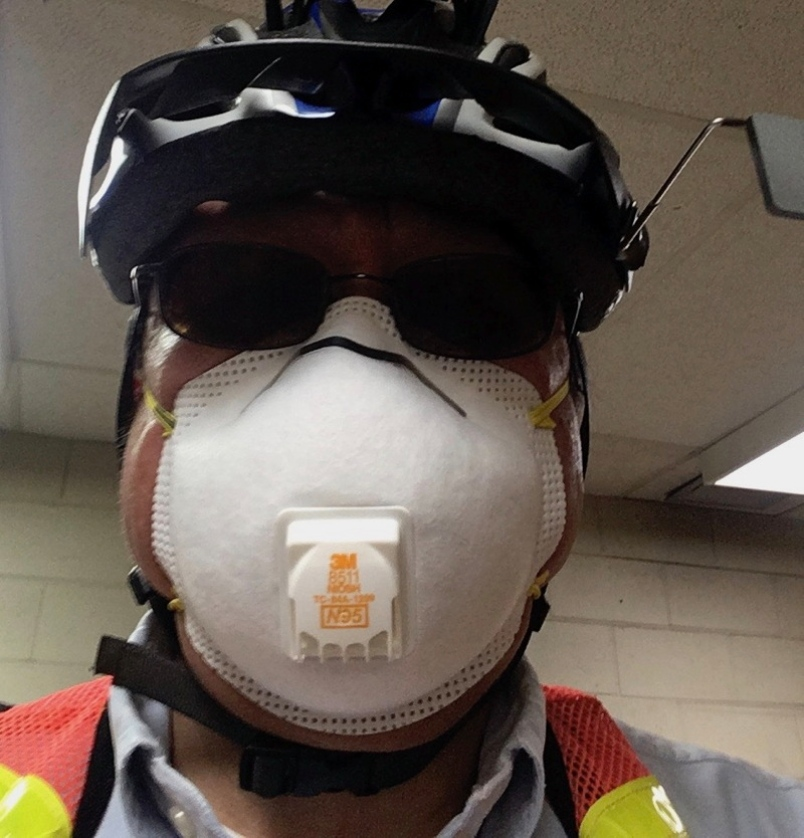n95: (131, 293, 587, 733)
